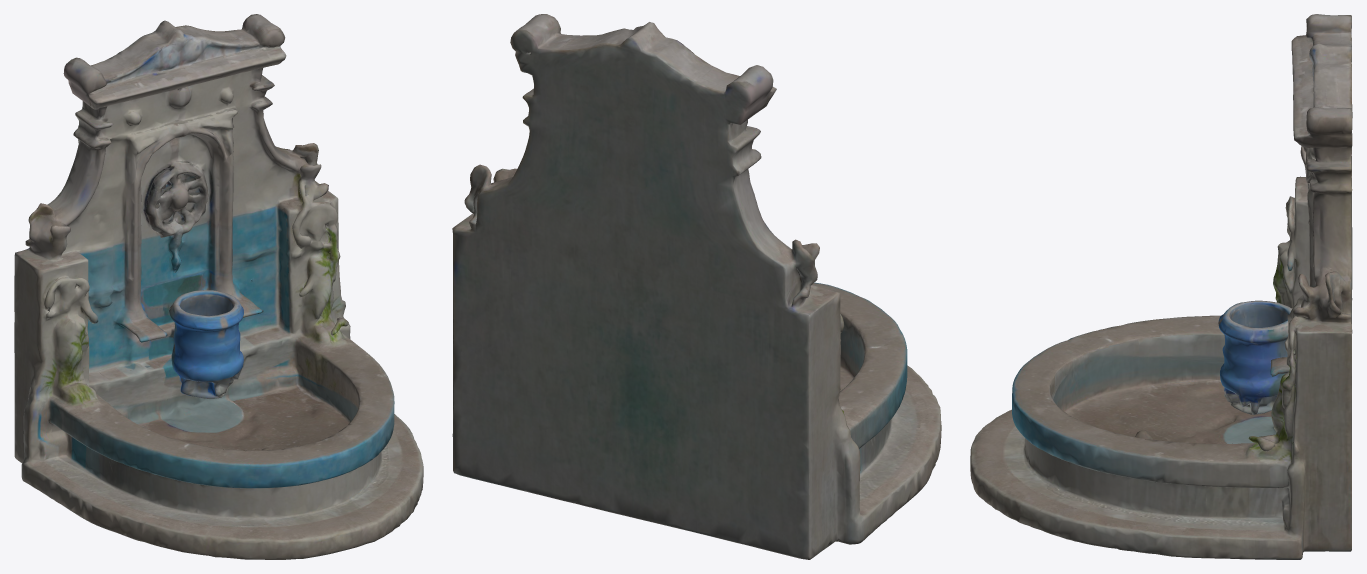
3 views of the same model, side by side, from view 1: azimuth 30°, elevation 25°; view 2: azimuth 150°, elevation 25°; view 3: azimuth 270°, elevation 25° (orthographic). The views are drawn at different scales.
Visible parts, largest first — view 1: file1; view 2: file1; view 3: file1.
Part boxes in pixels (x1,y1,x2,y2): file1: (14,14,423,559); file1: (452,14,941,559); file1: (970,14,1352,559).
Size of the model in its own units: 1.73 by 2 by 1.61.
1 material, 1 textured.
